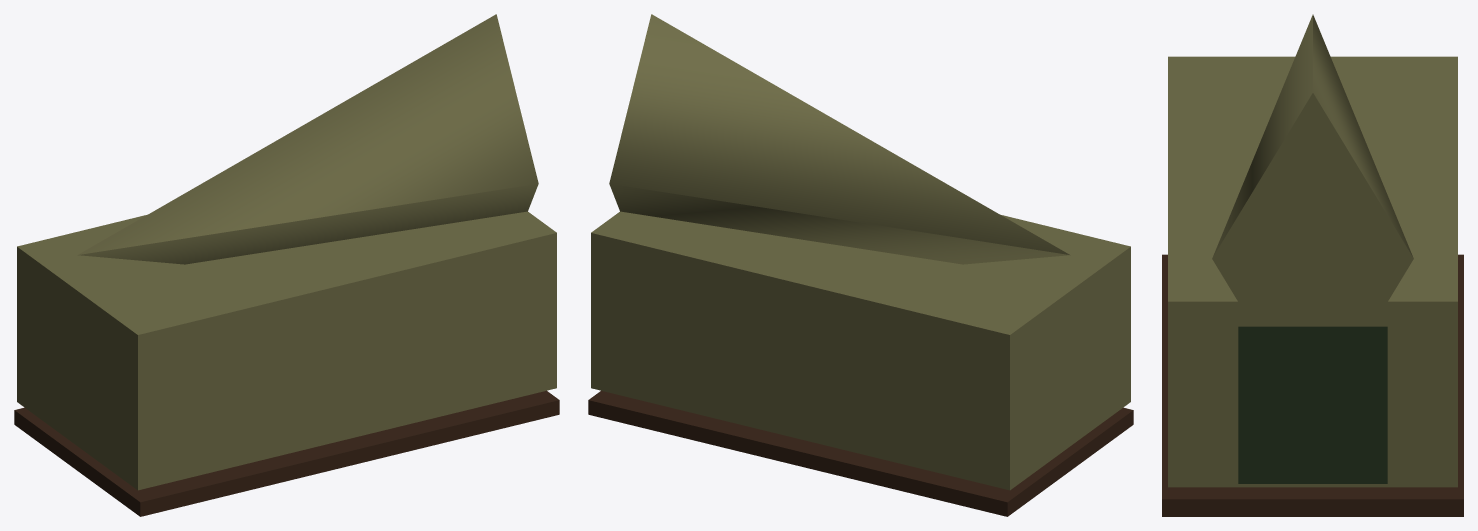
The model's file is barracks-tent.glb.
3 views of the same model, side by side, from view 1: azimuth 30°, elevation 25°; view 2: azimuth 150°, elevation 25°; view 3: azimuth 270°, elevation 25° (orthographic). The views are drawn at different scales.
Parts seen in each view (by area): view 1: canvasBody, ridgeRoof, floor; view 2: canvasBody, ridgeRoof, floor; view 3: canvasBody, ridgeRoof, frontFlap, floor.
Part boxes in pixels (x1,y1,x2,y2): canvasBody: (17,211,556,490); ridgeRoof: (77,14,538,264); floor: (14,390,559,516); canvasBody: (591,211,1130,490); ridgeRoof: (609,14,1070,264); floor: (588,390,1133,516); canvasBody: (1168,56,1457,487); ridgeRoof: (1212,14,1413,326); frontFlap: (1238,326,1387,483); floor: (1162,254,1463,516).
Size of the model in its own units: 2.42 by 1.94 by 1.25.
